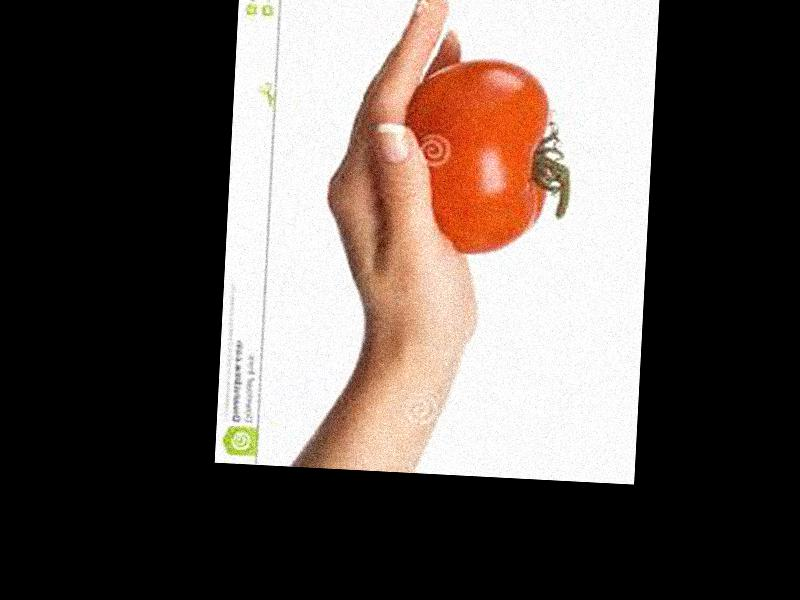Tomato: (399, 56, 552, 257)
